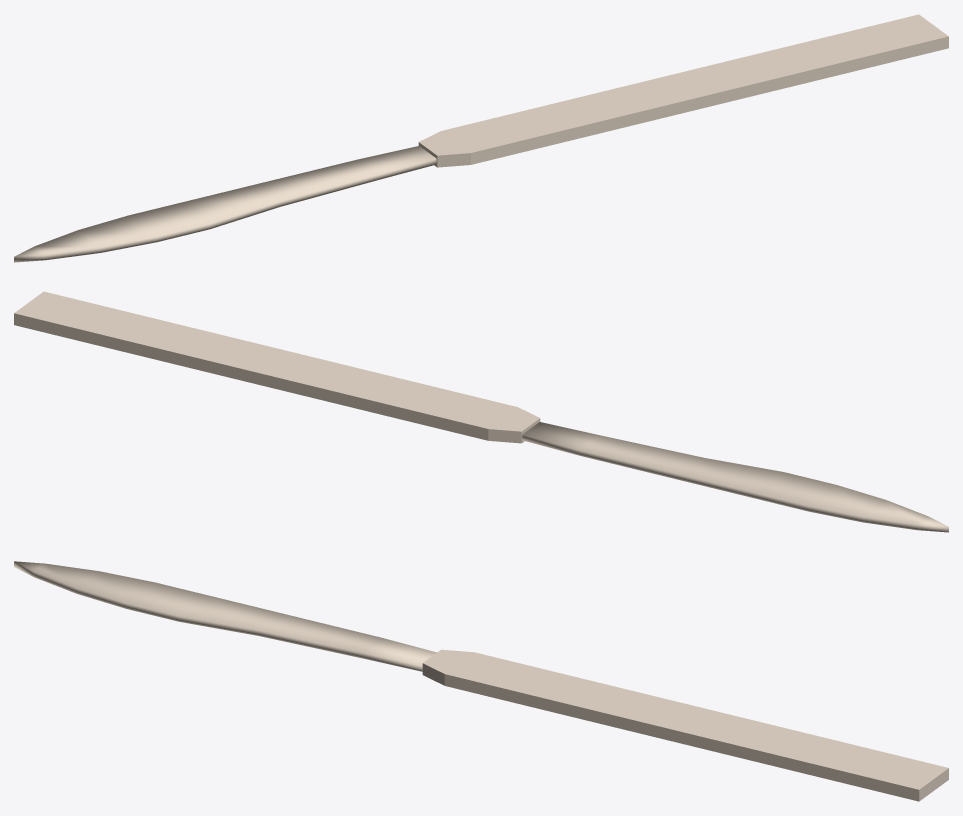
The model's file is Scalpel.fbx.
3 views of the same model, one above another, from view 1: azimuth 30°, elevation 25°; view 2: azimuth 150°, elevation 25°; view 3: azimuth 330°, elevation 25° (orthographic).
Visible parts, largest first — view 1: Scalpel; view 2: Scalpel; view 3: Scalpel.
Boxes of the visible parts, left/top/right/bottom form: Scalpel: left=14, top=14, right=948, bottom=262; Scalpel: left=14, top=291, right=948, bottom=532; Scalpel: left=14, top=561, right=948, bottom=801.
Size of the model in its own units: 99.37 by 1.22 by 6.26.
